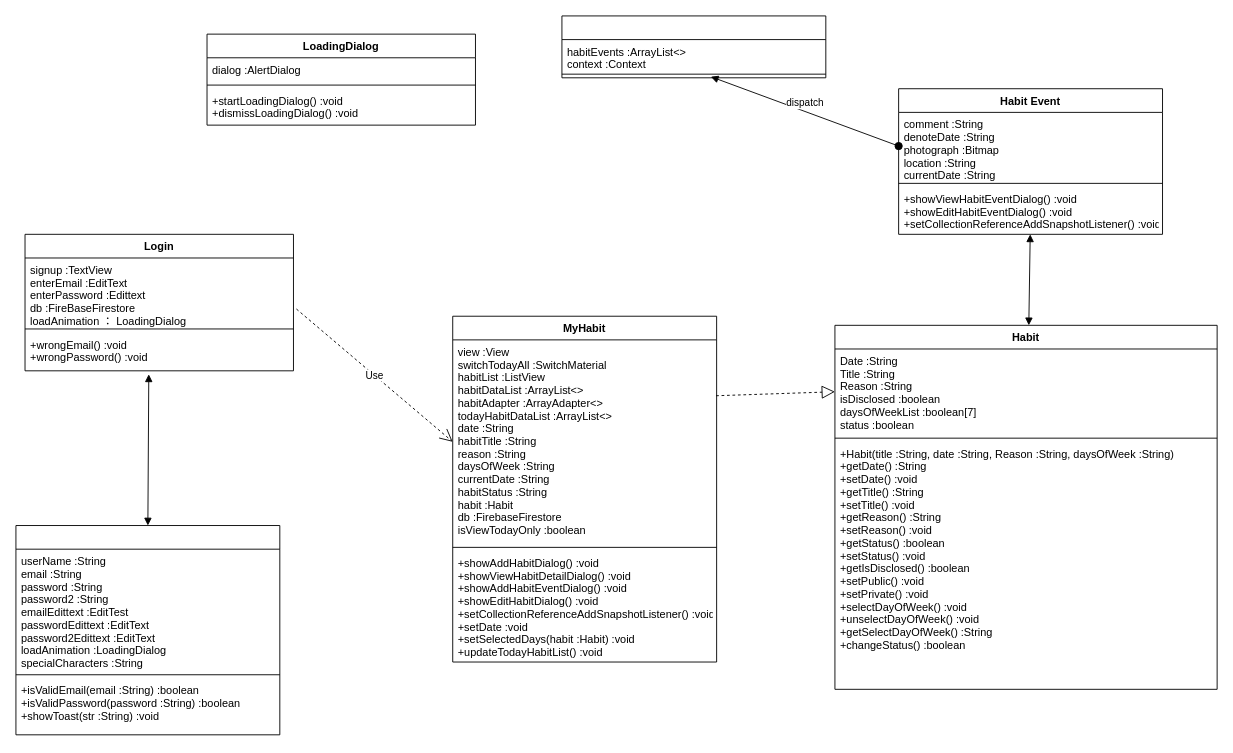
This 1233x753 diagram has some shape labels left out. Each missing label, with the box of its shape:
CustomHabitEventListAdapter: (561, 15, 826, 78)
Registeration: (15, 525, 280, 735)
